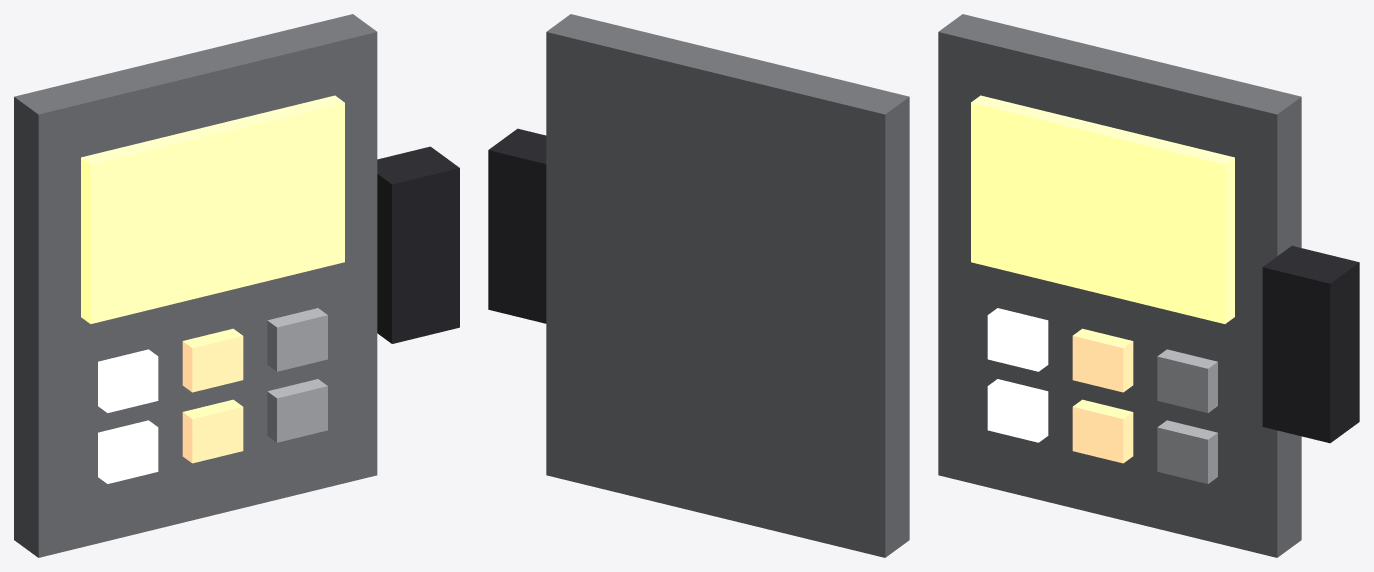
File: SM_Comm_Panel.fbx
3 renders of one model, left to right at view 1: azimuth 30°, elevation 25°; view 2: azimuth 150°, elevation 25°; view 3: azimuth 330°, elevation 25°, orthographic.
Parts seen in each view (by area): view 1: SM_Comm_Panel; view 2: SM_Comm_Panel; view 3: SM_Comm_Panel.
Boxes of the visible parts, left/top/right/bottom form: SM_Comm_Panel: left=14, top=14, right=459, bottom=557; SM_Comm_Panel: left=488, top=14, right=909, bottom=557; SM_Comm_Panel: left=938, top=14, right=1359, bottom=557.
Bounding box in the file's own units: 0.48 × 0.5 × 0.08.
